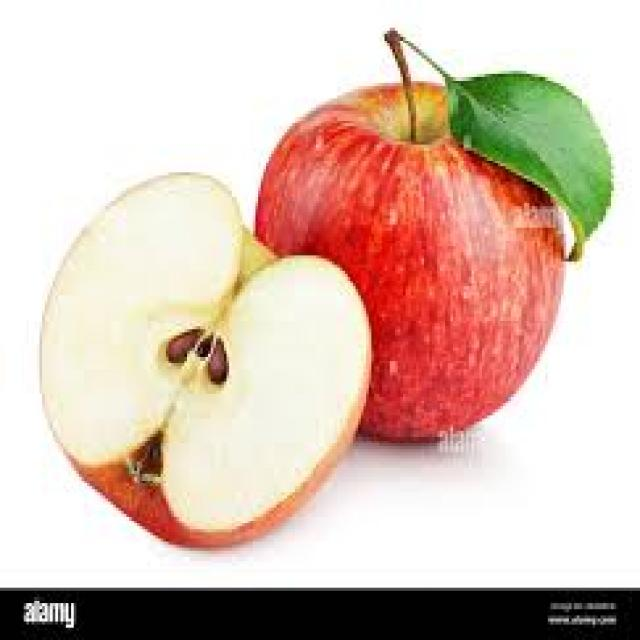Apple: (41, 169, 375, 539), (259, 86, 568, 443)
